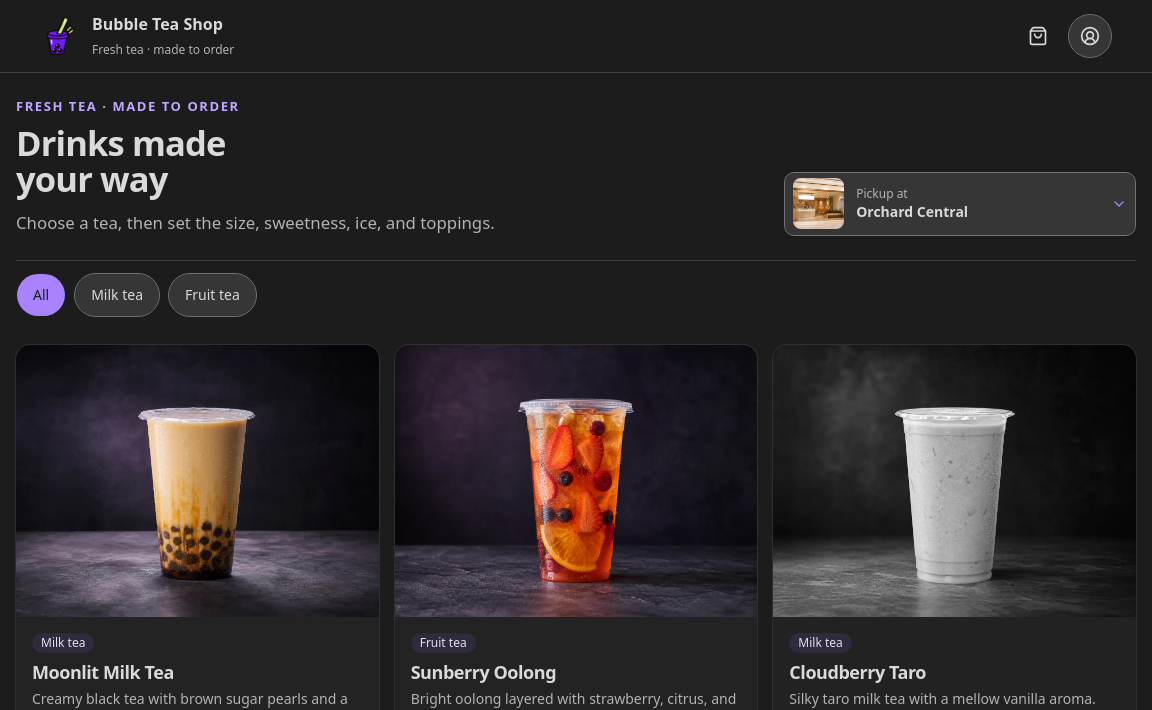
Test case: ShopPage › opens a compact location disclosure and closes it with Escape
Click the button "Pickup at Orchard Central" at (960, 204), box [784, 172, 1136, 236]
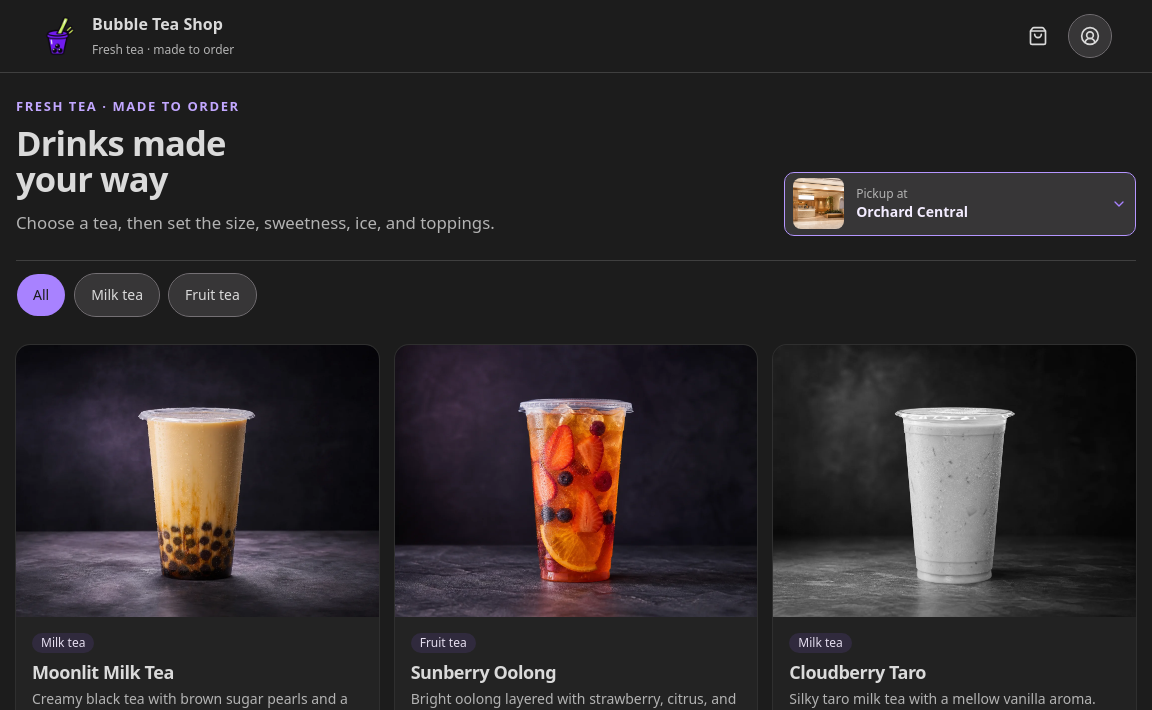
expect the button "Pickup at Orchard Central" is expanded: met, box [784, 172, 1136, 236]
Press Escape
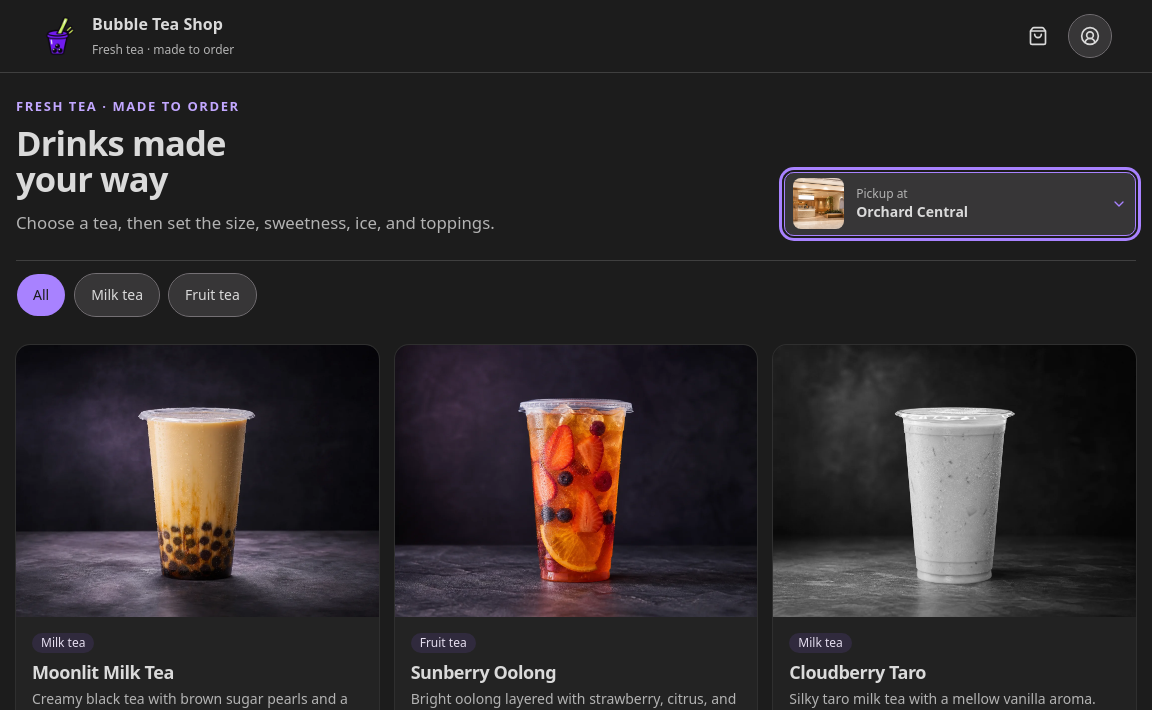
expect the button "Pickup at Orchard Central" is collapsed: met, box [784, 172, 1136, 236]
